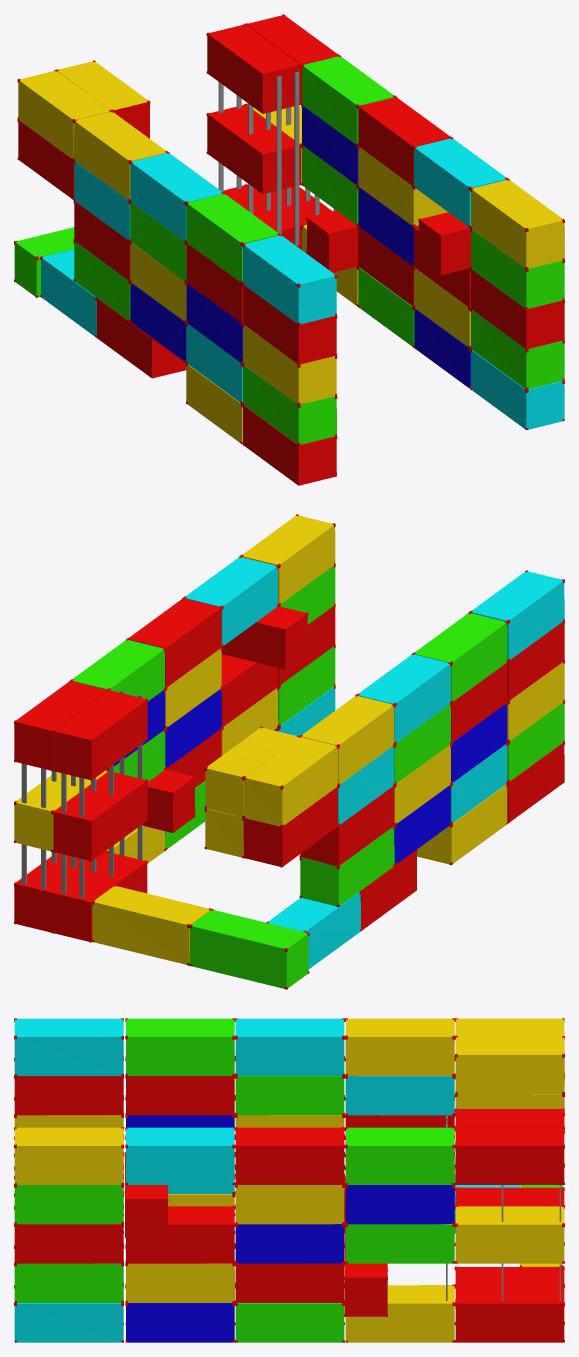
The model's file is ParentPart09FBX.FBX.
3 views of the same model, one above another, from view 1: azimuth 30°, elevation 25°; view 2: azimuth 150°, elevation 25°; view 3: azimuth 270°, elevation 25° (orthographic). The views are drawn at different scales.
Parts seen in each view (by area): view 1: ParentPart9; view 2: ParentPart9; view 3: ParentPart9.
Boxes of the visible parts, x1,y1,x2,y2 form: ParentPart9: (14,14,564,485); ParentPart9: (14,514,564,989); ParentPart9: (14,1018,564,1342).
Bounding box in the file's own units: 6.4 × 10.39 × 4.1.
